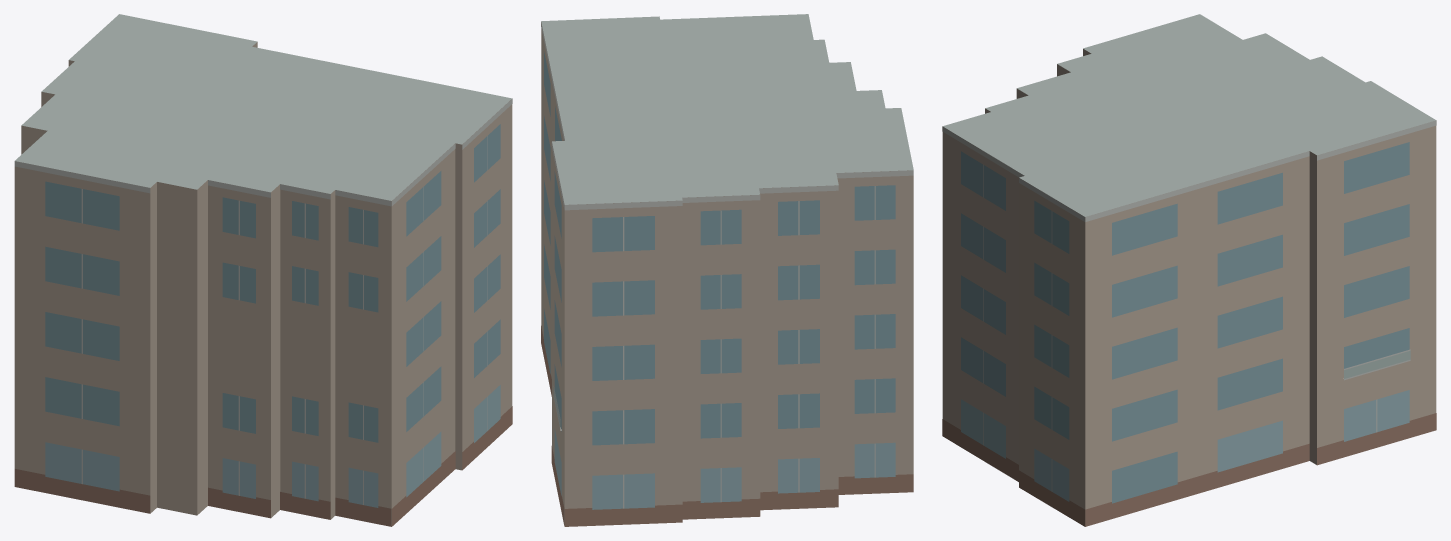
File: survey-upis-32874037.glb
3 renders of one model, left to right at view 1: azimuth 30°, elevation 25°; view 2: azimuth 150°, elevation 25°; view 3: azimuth 270°, elevation 25°, orthographic. The views are drawn at different scales.
Visible parts, largest first — view 1: survey-upis-32874037.tmp; view 2: survey-upis-32874037.tmp; view 3: survey-upis-32874037.tmp.
Part boxes in pixels (x1,y1,x2,y2): survey-upis-32874037.tmp: (14,14,512,526); survey-upis-32874037.tmp: (541,14,913,526); survey-upis-32874037.tmp: (942,14,1436,526).
Size of the model in its own units: 20.38 by 14.5 by 20.96.
